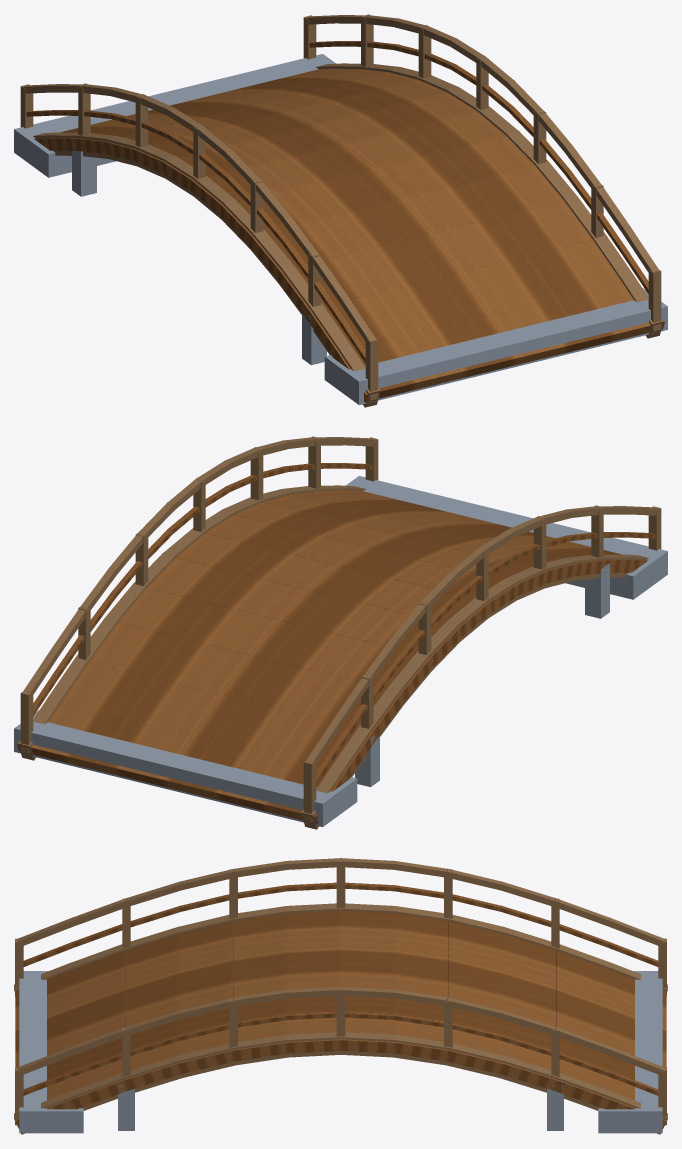
Rendered from bridge_arch_wooden.glb.
The picture shows the model from 3 angles, top to bottom: view 1: azimuth 30°, elevation 25°; view 2: azimuth 150°, elevation 25°; view 3: azimuth 270°, elevation 25°; orthographic projection. The views are drawn at different scales.
Visible parts, largest first — view 1: bridge_arch_wooden; view 2: bridge_arch_wooden; view 3: bridge_arch_wooden.
Part boxes in pixels (left/top/right/bottom): bridge_arch_wooden: left=14, top=14, right=667, bottom=407; bridge_arch_wooden: left=14, top=436, right=667, bottom=829; bridge_arch_wooden: left=14, top=858, right=667, bottom=1134.
Size of the model in its own units: 6.2 by 2.96 by 12.2.
3 materials, 1 textured.
